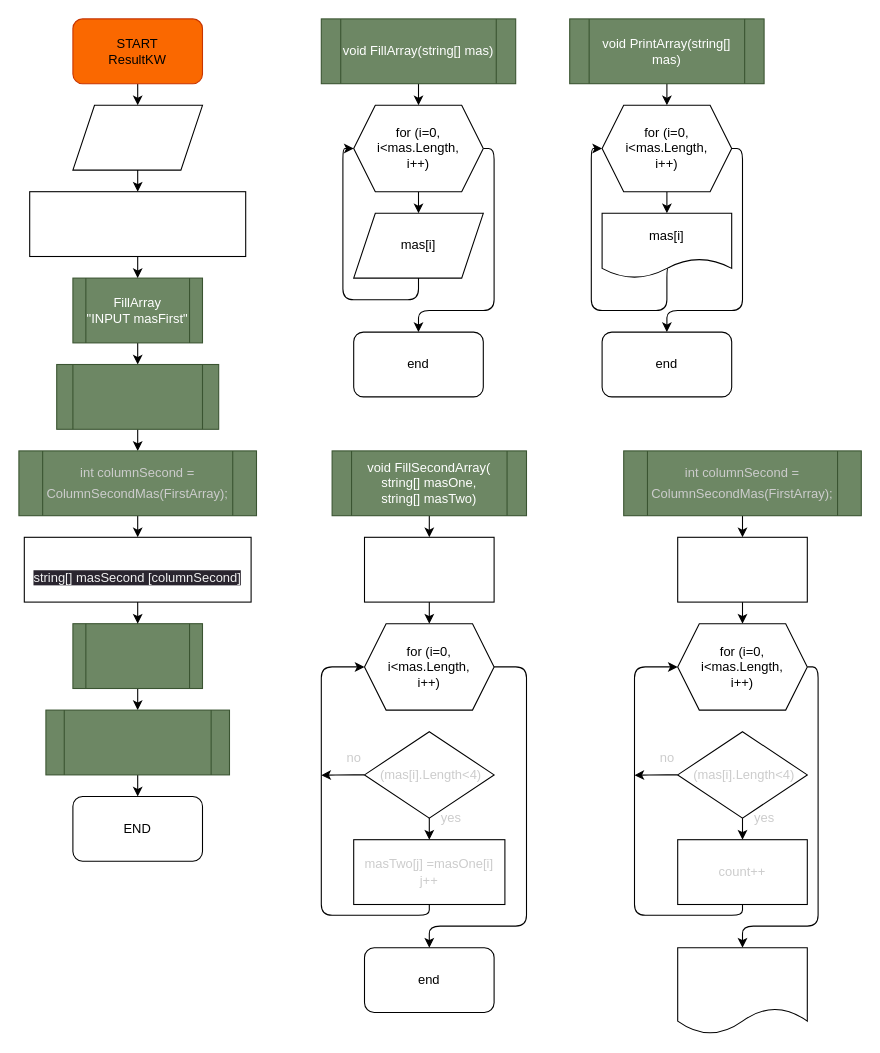
The diagram is 880 pixels wide and 1053 high, and some of its shapes have lost their labels. The shapes that lost their labels are listed below. From the top down, each one's centre as x and y in pixels, then its label:
(x=137, y=137): int columnFirst
(x=137, y=223): string[] masFirst[columnFirst]
(x=137, y=396): PrintArray "OUTPUT masFirst"
(x=428, y=569): j=0
(x=742, y=569): count=0
(x=137, y=655): FillSecondArray
(x=137, y=742): PrintArray "OUTPUT masSecond"
(x=742, y=990): return count
